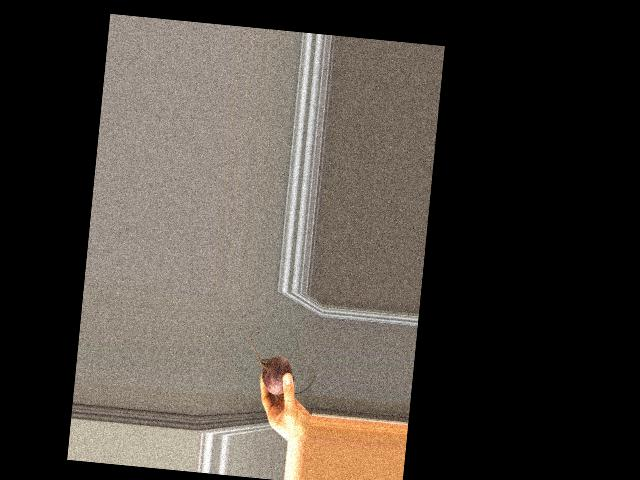beet: (245, 329, 319, 397)
